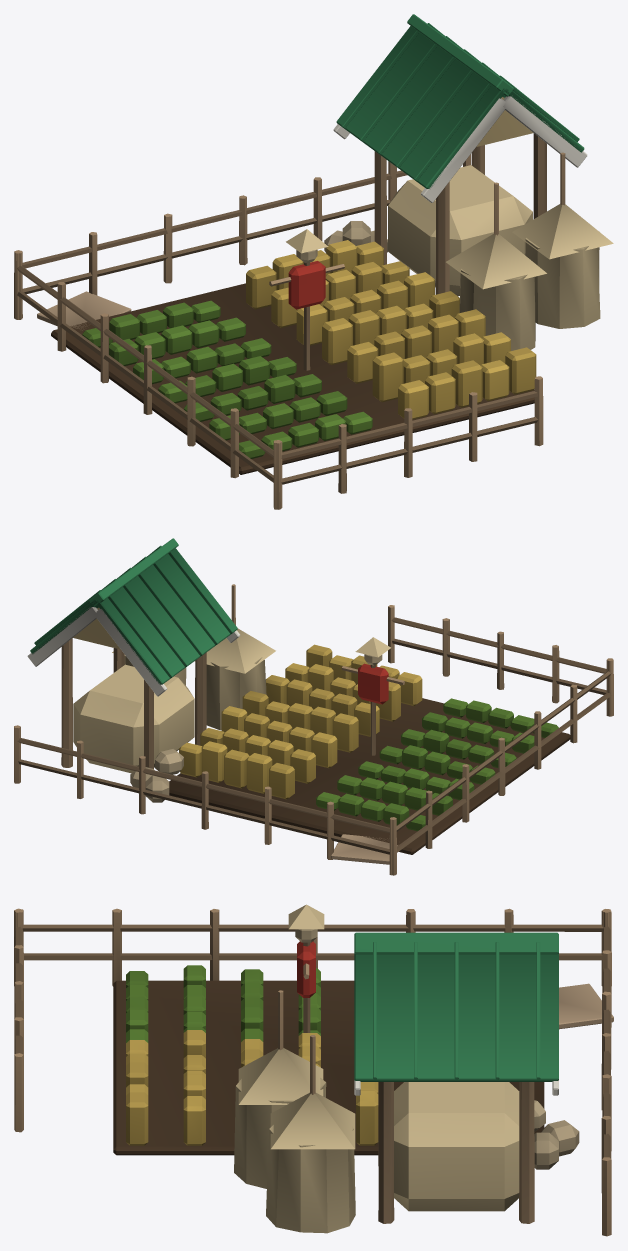
Rendered from bld_ferma_e2.glb.
3 views of the same model, one above another, from view 1: azimuth 30°, elevation 25°; view 2: azimuth 150°, elevation 25°; view 3: azimuth 270°, elevation 25° (orthographic). The views are drawn at different scales.
Parts seen in each view (by area): view 1: ferma; view 2: ferma; view 3: ferma.
Part boxes in pixels (box(x1,y1,x2,y2)): ferma: box(14, 14, 613, 509); ferma: box(14, 538, 613, 875); ferma: box(14, 904, 613, 1236).
Bounding box in the file's own units: 1.89 × 0.8961 × 1.88.
